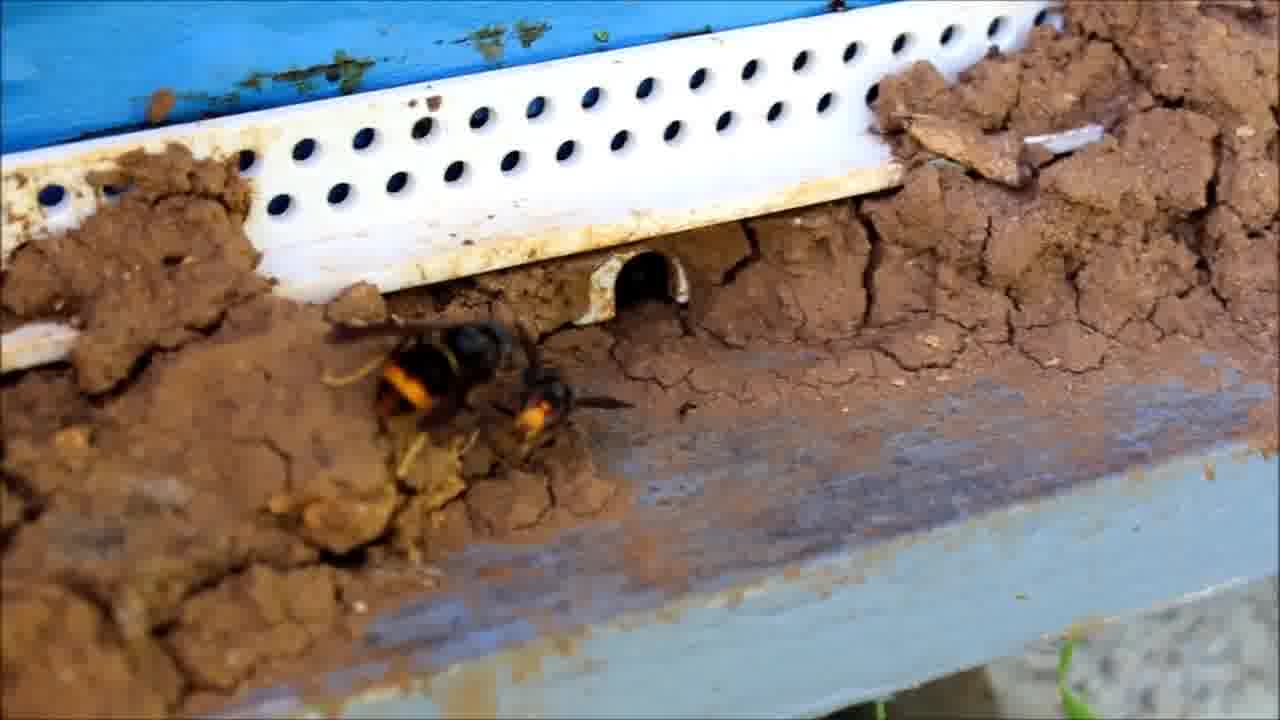hornet: (363, 312, 508, 452), (519, 316, 599, 463)
